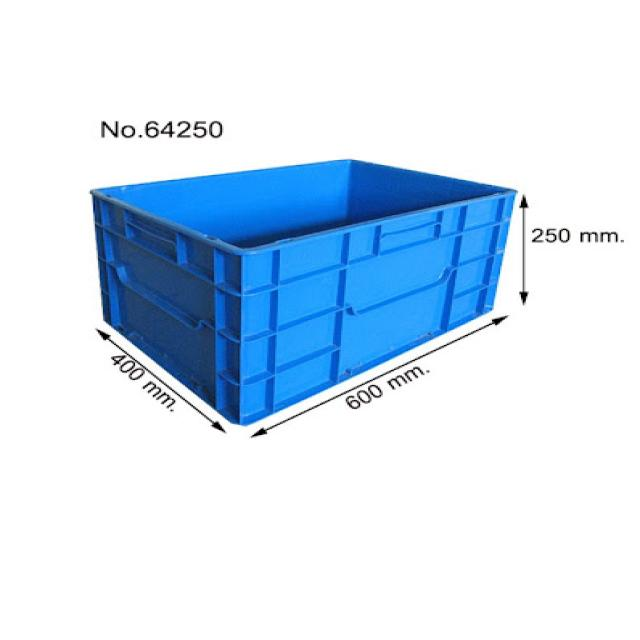basket: (85, 128, 544, 444)
